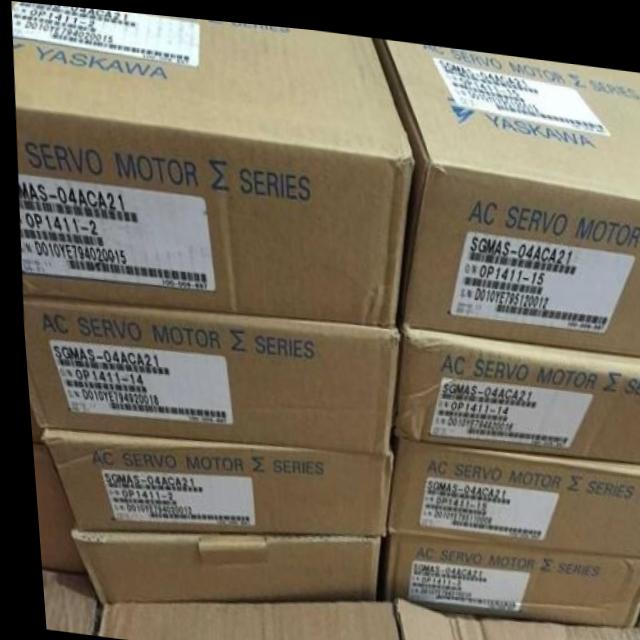box: (11, 1, 412, 322), (371, 30, 640, 344), (18, 294, 396, 450), (34, 428, 387, 529), (387, 317, 640, 452), (380, 427, 640, 547), (63, 527, 371, 606), (373, 526, 640, 614), (82, 593, 391, 640), (383, 590, 640, 640), (26, 440, 78, 573), (33, 566, 90, 634), (23, 401, 35, 441)
